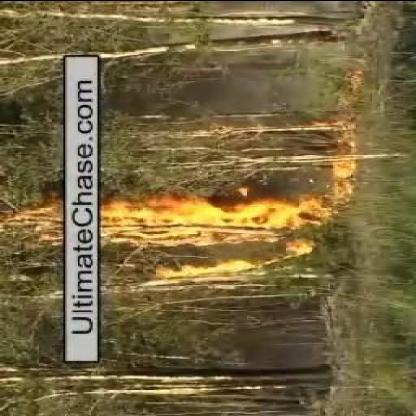foggia-v2-map80-epoch100 - v1 4323: (101, 192, 346, 240), (21, 200, 63, 228)
